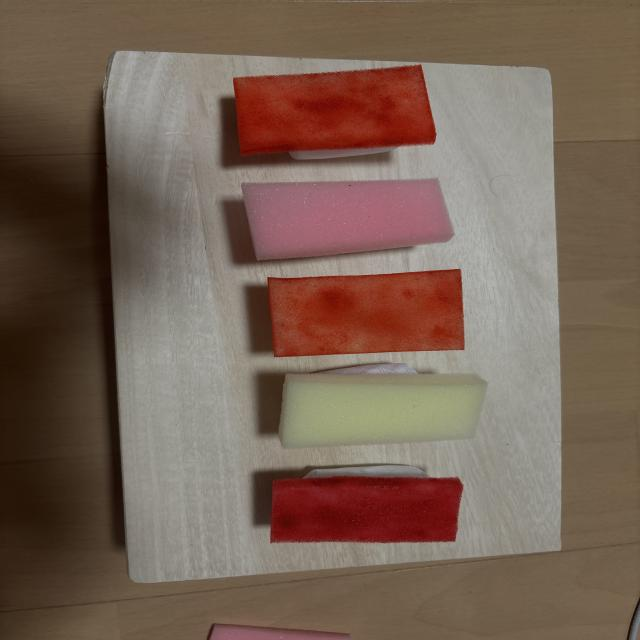NG: (271, 465, 463, 543)
salmon: (234, 65, 436, 159), (269, 270, 463, 356)
tai: (242, 178, 454, 260)
tamago: (279, 363, 487, 448)
